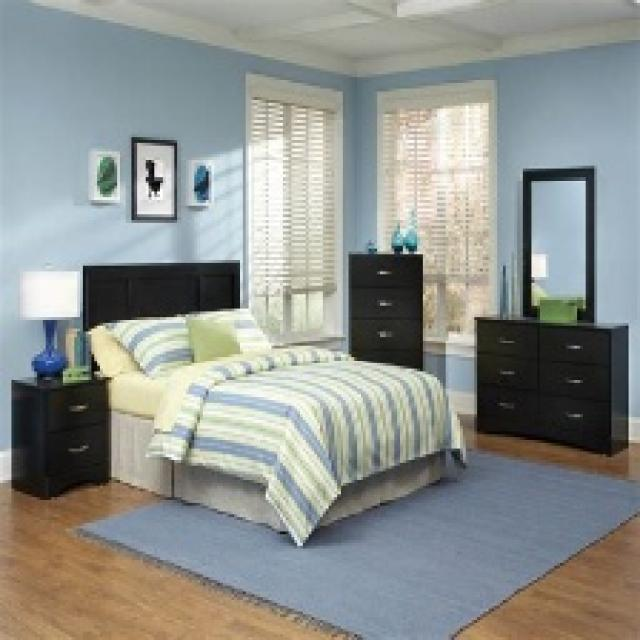Bed: (80, 260, 466, 546)
